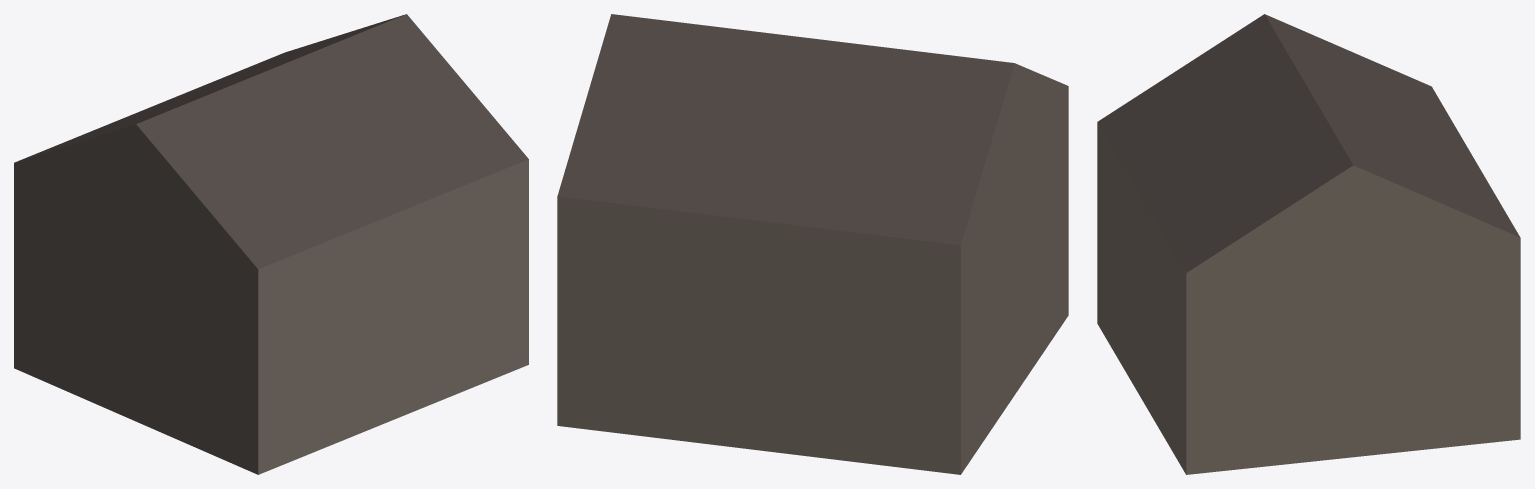
The picture shows the model from 3 angles, left to right: view 1: azimuth 30°, elevation 25°; view 2: azimuth 150°, elevation 25°; view 3: azimuth 270°, elevation 25°; orthographic projection. The views are drawn at different scales.
Visible parts, largest first — view 1: HP-w1367350937; view 2: HP-w1367350937; view 3: HP-w1367350937.
Part boxes in pixels (left/top/right/bottom): HP-w1367350937: left=14, top=14, right=528, bottom=474; HP-w1367350937: left=557, top=14, right=1068, bottom=474; HP-w1367350937: left=1097, top=14, right=1520, bottom=474.
Bounding box in the file's own units: 11.91 × 8.68 × 11.41.
